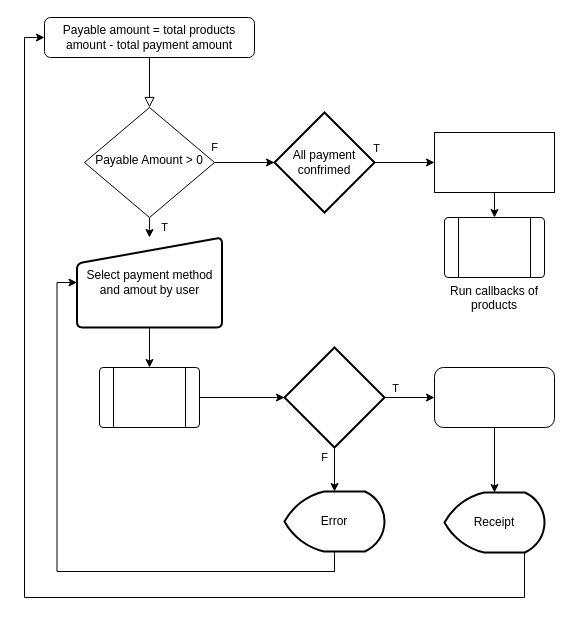
Some shapes in this 572 by 623 pixel diagram are drawn without their labels. The centre of each missing label's shape, as x and y in pixels:
mark transaction as paid: point 494,162
Pass user to payment method: point 149,397
Save payment: point 494,397
Successful Payment: point 334,397
